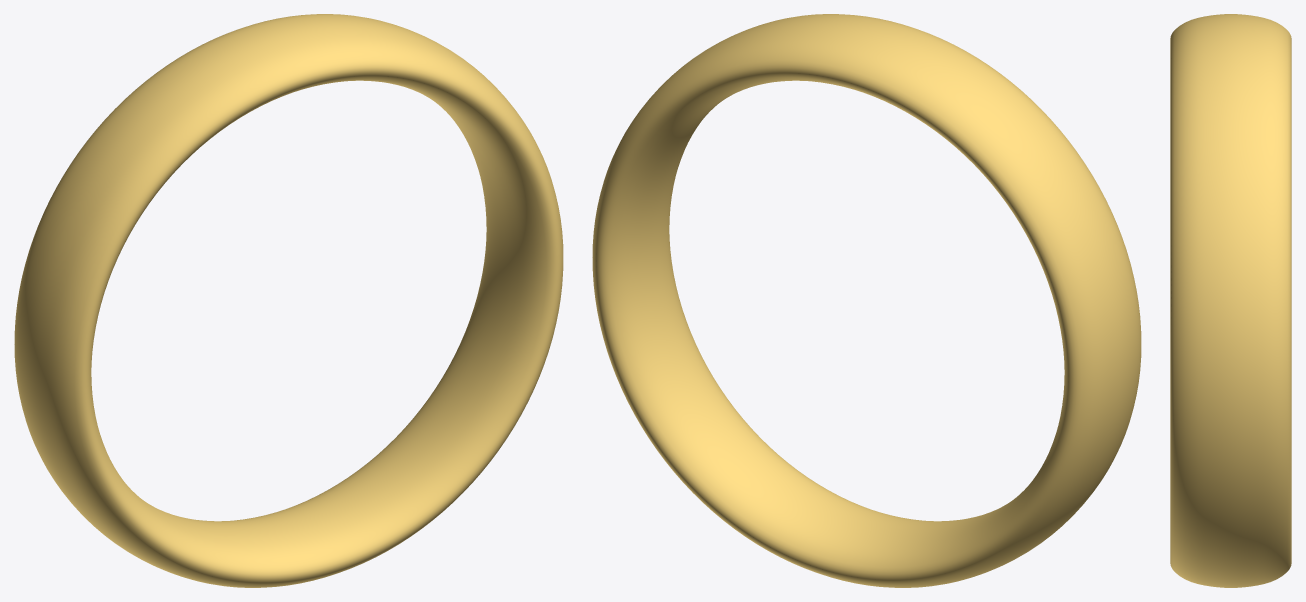
Rendered from AndyEygWB_blender.glb.
3 renders of one model, left to right at view 1: azimuth 30°, elevation 25°; view 2: azimuth 150°, elevation 25°; view 3: azimuth 270°, elevation 25°, orthographic. The views are drawn at different scales.
Visible parts, largest first — view 1: Andy his YG for 3d model; view 2: Andy his YG for 3d model; view 3: Andy his YG for 3d model.
Boxes of the visible parts, x1,y1,x2,y2 form: Andy his YG for 3d model: (14, 14, 563, 587); Andy his YG for 3d model: (592, 14, 1141, 587); Andy his YG for 3d model: (1170, 14, 1291, 587).
Bounding box in the file's own units: 23.18 × 23.18 × 4.9.
